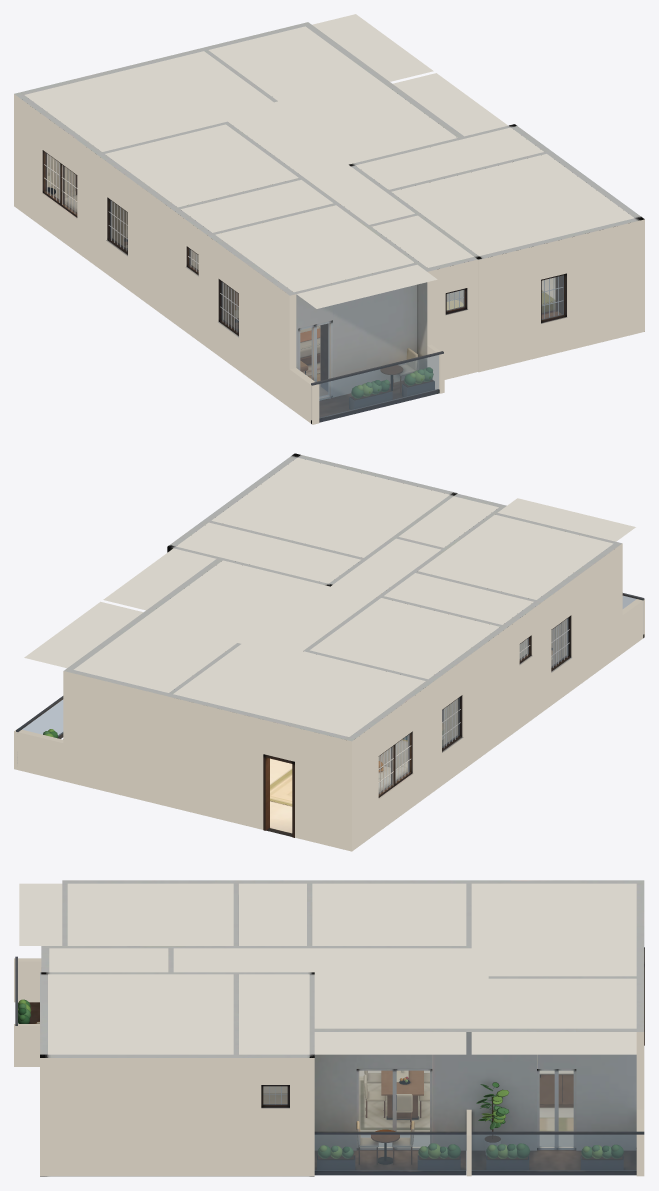
The model's file is flat-premium.glb.
3 views of the same model, one above another, from view 1: azimuth 30°, elevation 25°; view 2: azimuth 150°, elevation 25°; view 3: azimuth 270°, elevation 25° (orthographic). The views are drawn at different scales.
Parts seen in each view (by area): view 1: Ceilings, EXT, BAKE, NOBAKE; view 2: Ceilings, EXT, BAKE, NOBAKE; view 3: Ceilings, BAKE, EXT, NOBAKE.
Boxes of the visible parts, left/top/right/bottom form: Ceilings: left=24, top=14, right=634, bottom=308; EXT: left=14, top=94, right=644, bottom=424; BAKE: left=14, top=22, right=644, bottom=423; NOBAKE: left=45, top=153, right=563, bottom=418; Ceilings: left=24, top=457, right=635, bottom=736; EXT: left=14, top=543, right=644, bottom=851; BAKE: left=16, top=453, right=644, bottom=837; NOBAKE: left=22, top=595, right=636, bottom=793; Ceilings: left=19, top=883, right=636, bottom=1054; BAKE: left=15, top=880, right=644, bottom=1176; EXT: left=14, top=958, right=644, bottom=1176; NOBAKE: left=18, top=999, right=636, bottom=1170.
Bounding box in the file's own units: 9.78 × 3.05 × 14.71.
24 materials, 2 textured.
